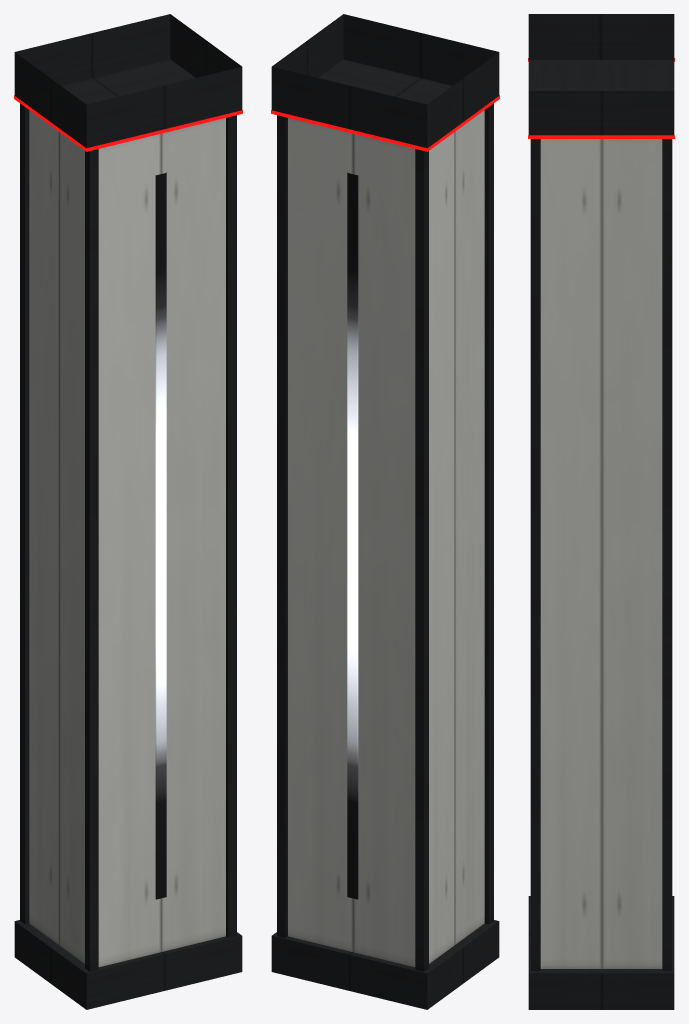
File: SM_LFD_ColumnClad.fbx
3 views of the same model, side by side, from view 1: azimuth 30°, elevation 25°; view 2: azimuth 150°, elevation 25°; view 3: azimuth 270°, elevation 25° (orthographic).
Parts seen in each view (by area): view 1: SM_LFD_ColumnClad_LOD0; view 2: SM_LFD_ColumnClad_LOD0; view 3: SM_LFD_ColumnClad_LOD0.
Boxes of the visible parts, left/top/right/bottom form: SM_LFD_ColumnClad_LOD0: left=14, top=14, right=242, bottom=1009; SM_LFD_ColumnClad_LOD0: left=271, top=14, right=499, bottom=1009; SM_LFD_ColumnClad_LOD0: left=528, top=14, right=674, bottom=1009.
Size of what is drawn, in the model's own units: 0.904 by 5 by 0.724.
